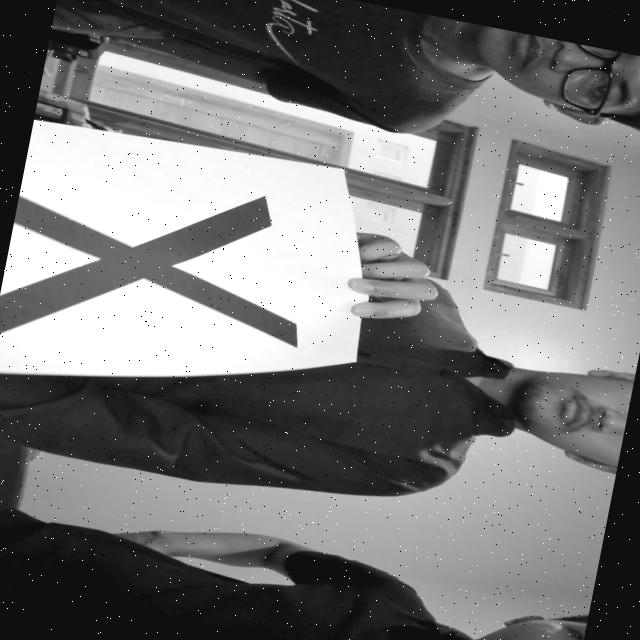x: (0, 143, 336, 409)
